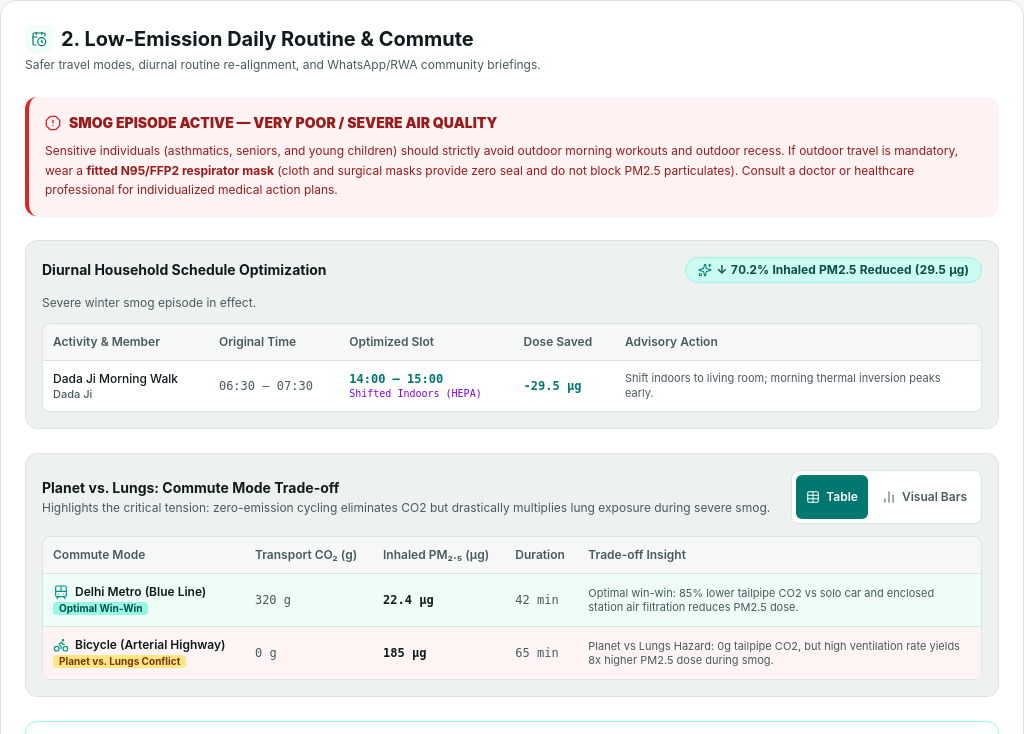
Test case: LowEmissionRoutine Component › shows consistent trade-off labels in the comparison table and bars
This screenshot has width=1024, height=734.
Expected: the text "Delhi Metro (Blue Line)" is shown, [75,584,206,600]
Expected: the text "Bicycle (Arterial Highway)" is shown, [75,637,226,653]
Click the button "Visual Bars".
click(924, 497)  # box [872,475,977,519]
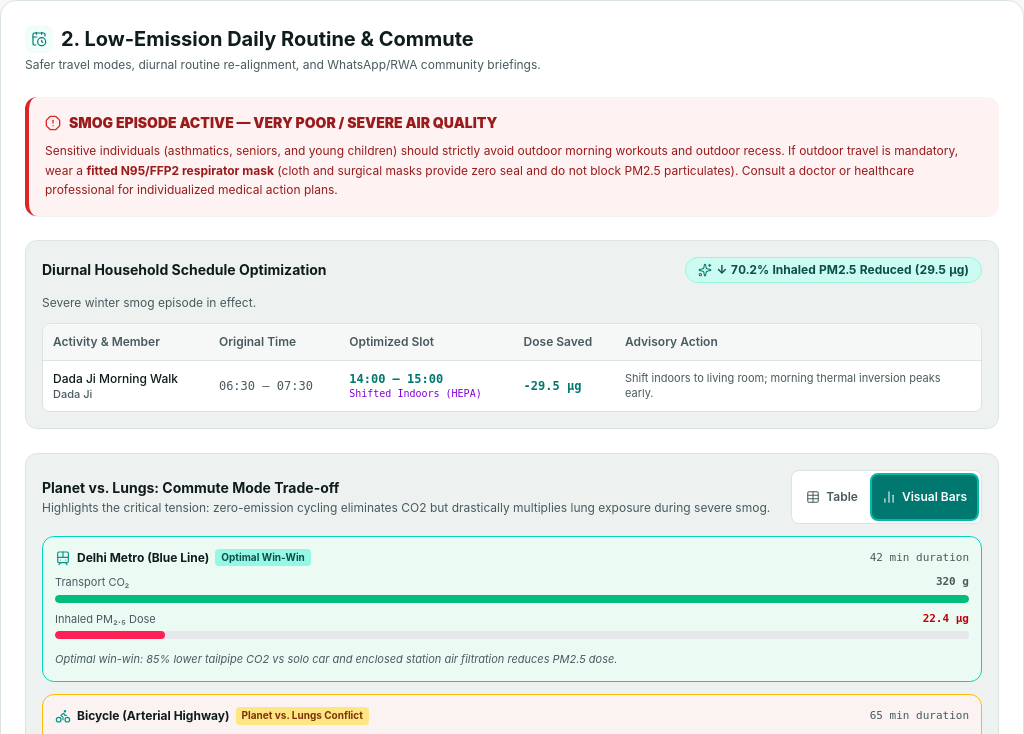
Expected: the text "Inhaled PM₂.₅ Dose" is shown 2 times
